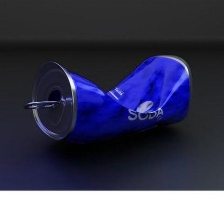can: (21, 51, 197, 151)
